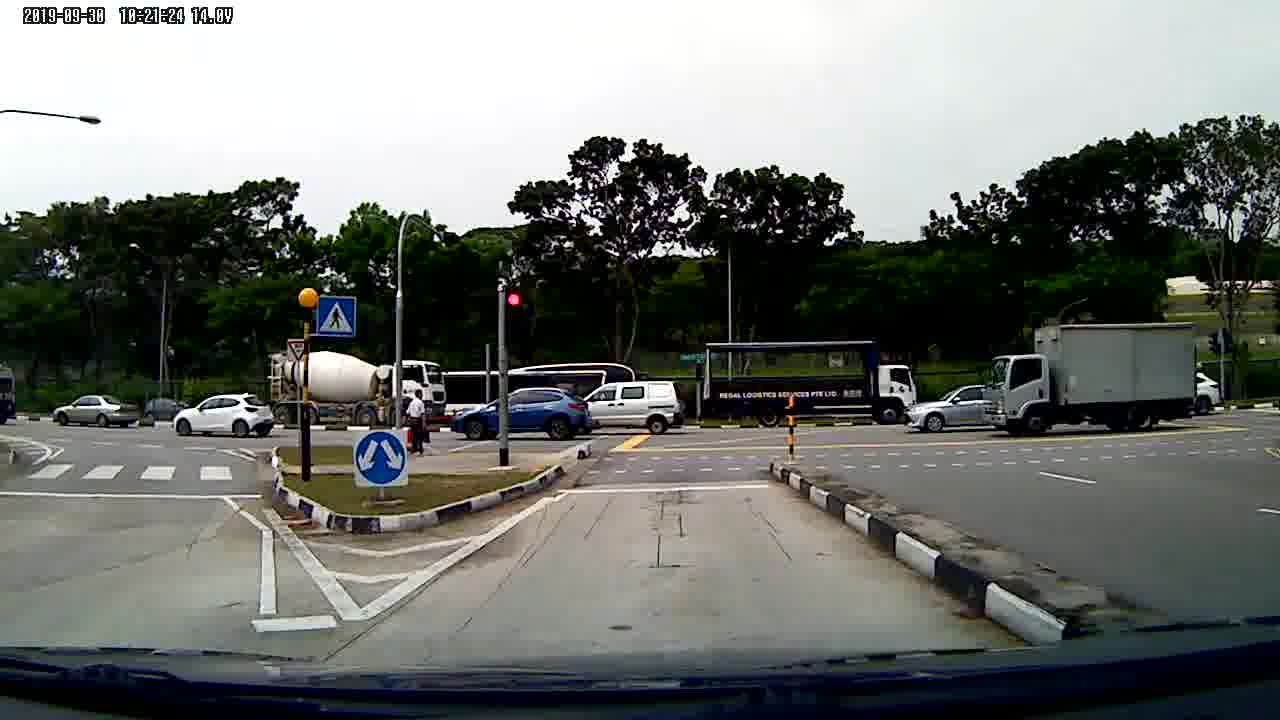bus: (448, 362, 642, 426)
car: (453, 388, 592, 438), (173, 392, 276, 448), (48, 391, 144, 434), (905, 386, 981, 430), (140, 398, 192, 420)
